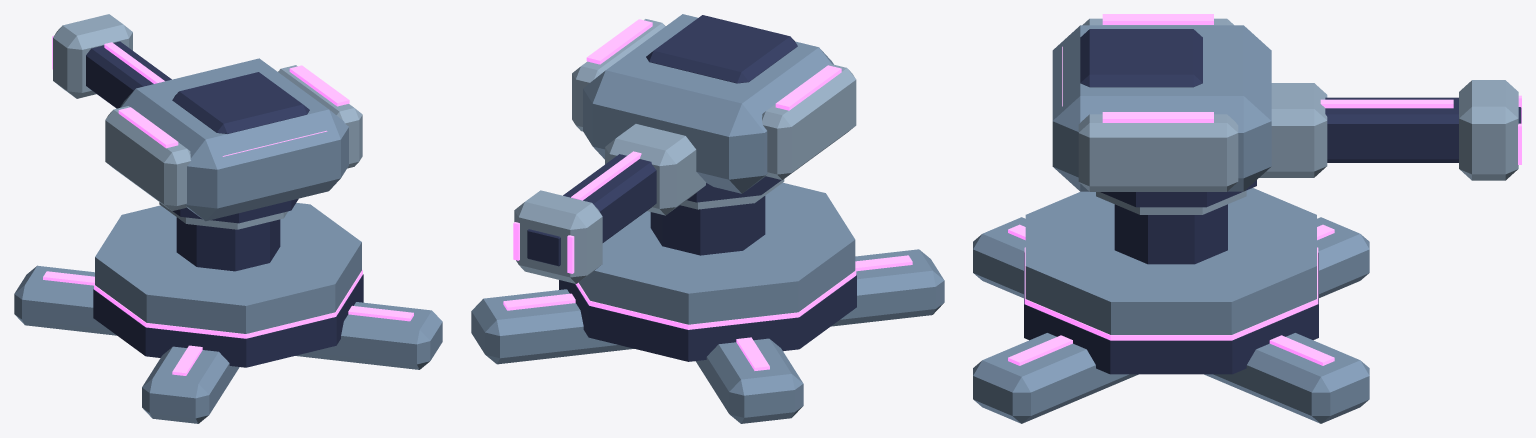
Rendered from NT_Turret_Magenta.fbx.
3 renders of one model, left to right at view 1: azimuth 30°, elevation 25°; view 2: azimuth 150°, elevation 25°; view 3: azimuth 270°, elevation 25°, orthographic. The views are drawn at different scales.
Visible parts, largest first — view 1: NT_Turret_Magenta__Base, NT_Turret_Magenta__Turret, NT_Turret_Magenta__Barrel, NT_Turret_Magenta__Pedestal; view 2: NT_Turret_Magenta__Base, NT_Turret_Magenta__Turret, NT_Turret_Magenta__Barrel, NT_Turret_Magenta__Pedestal; view 3: NT_Turret_Magenta__Base, NT_Turret_Magenta__Turret, NT_Turret_Magenta__Barrel, NT_Turret_Magenta__Pedestal.
Part boxes in pixels (<box>): NT_Turret_Magenta__Base: <box>14,203,442,423</box>; NT_Turret_Magenta__Turret: <box>105,58,362,221</box>; NT_Turret_Magenta__Barrel: <box>52,14,171,108</box>; NT_Turret_Magenta__Pedestal: <box>159,198,298,271</box>; NT_Turret_Magenta__Base: <box>471,182,944,423</box>; NT_Turret_Magenta__Turret: <box>572,14,856,193</box>; NT_Turret_Magenta__Barrel: <box>513,124,705,283</box>; NT_Turret_Magenta__Pedestal: <box>650,176,784,255</box>; NT_Turret_Magenta__Base: <box>973,188,1369,423</box>; NT_Turret_Magenta__Turret: <box>1052,14,1271,191</box>; NT_Turret_Magenta__Barrel: <box>1259,80,1521,180</box>; NT_Turret_Magenta__Pedestal: <box>1096,180,1256,264</box>.
Size of the model in its own units: 1.07 by 0.8685 by 1.48.
